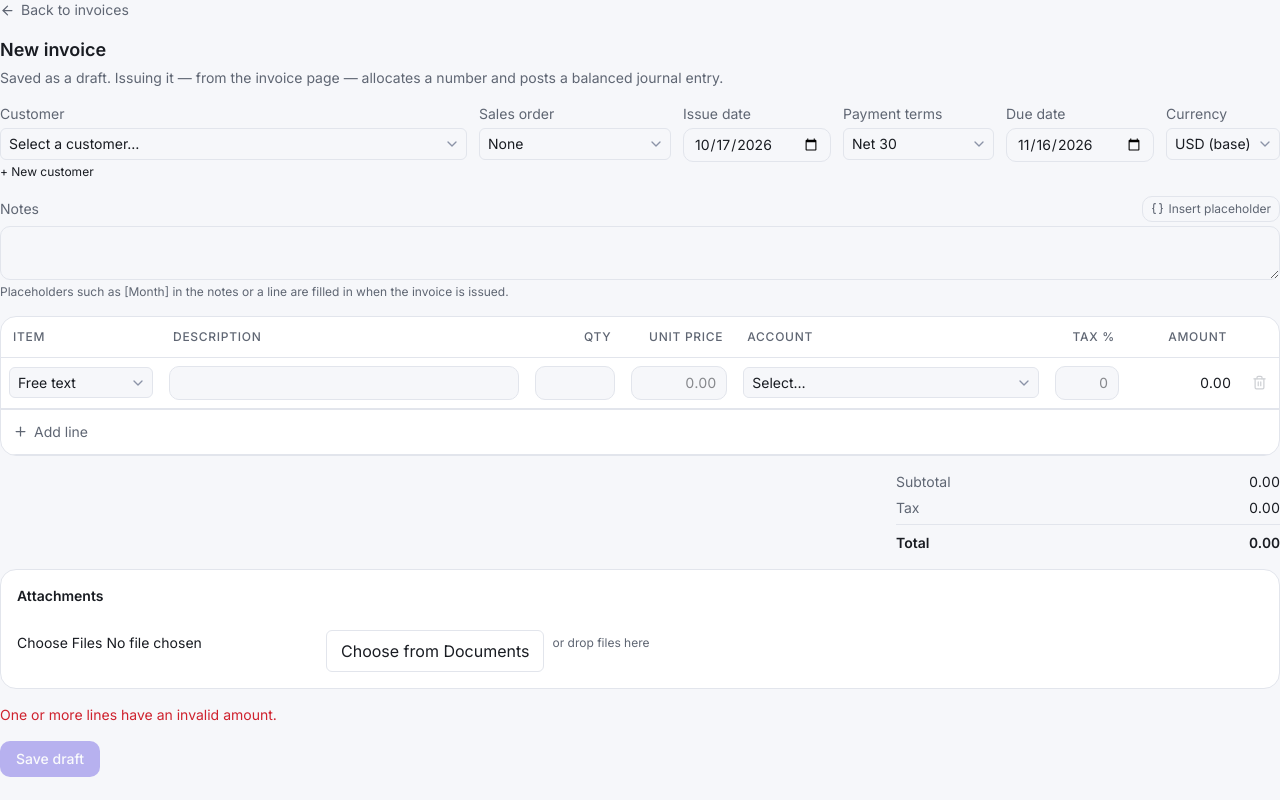
quick add from a document line › cancelling leaves the line exactly as it was
Type "Typed by hand" into the field named "Description for line 1" at (344,383), box [169, 366, 519, 400]
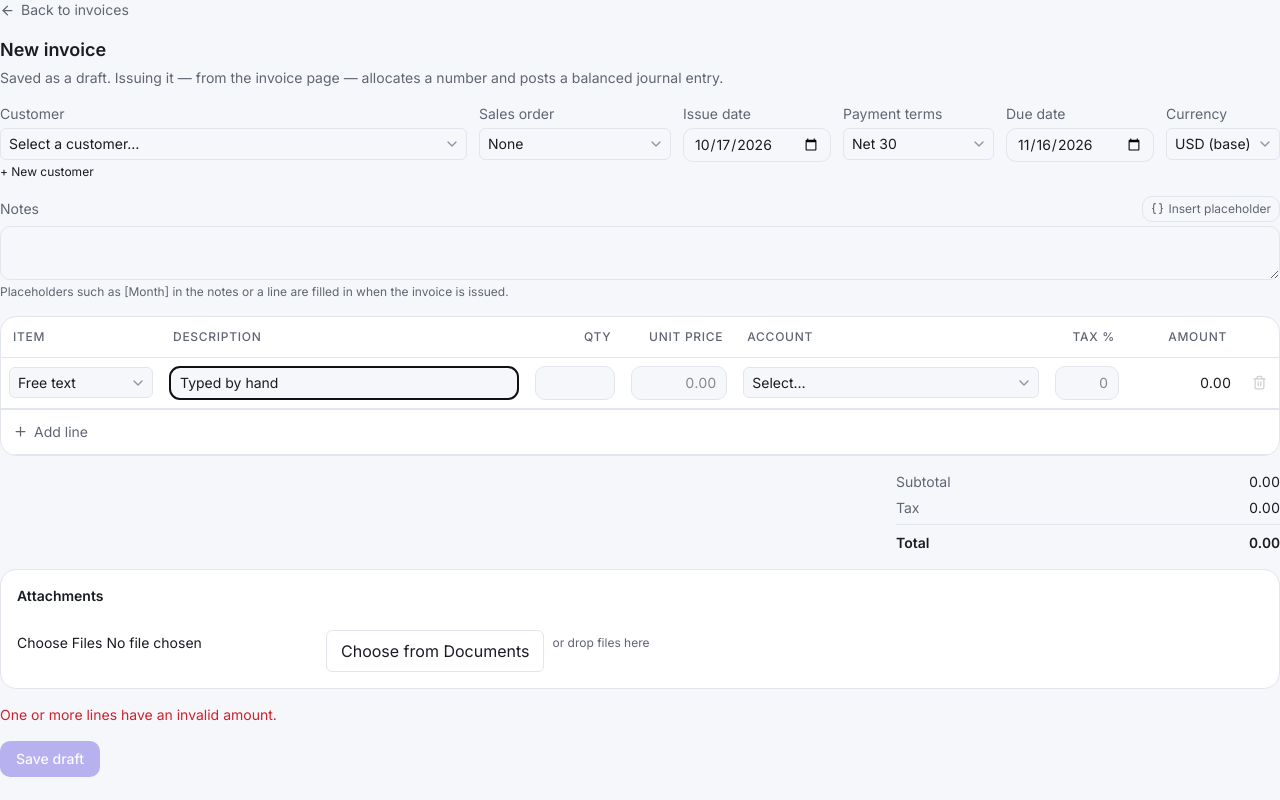
Select "＋ New product or service…" in the dropdown named "Item for line 1" at (81,383), box [9, 367, 153, 398]
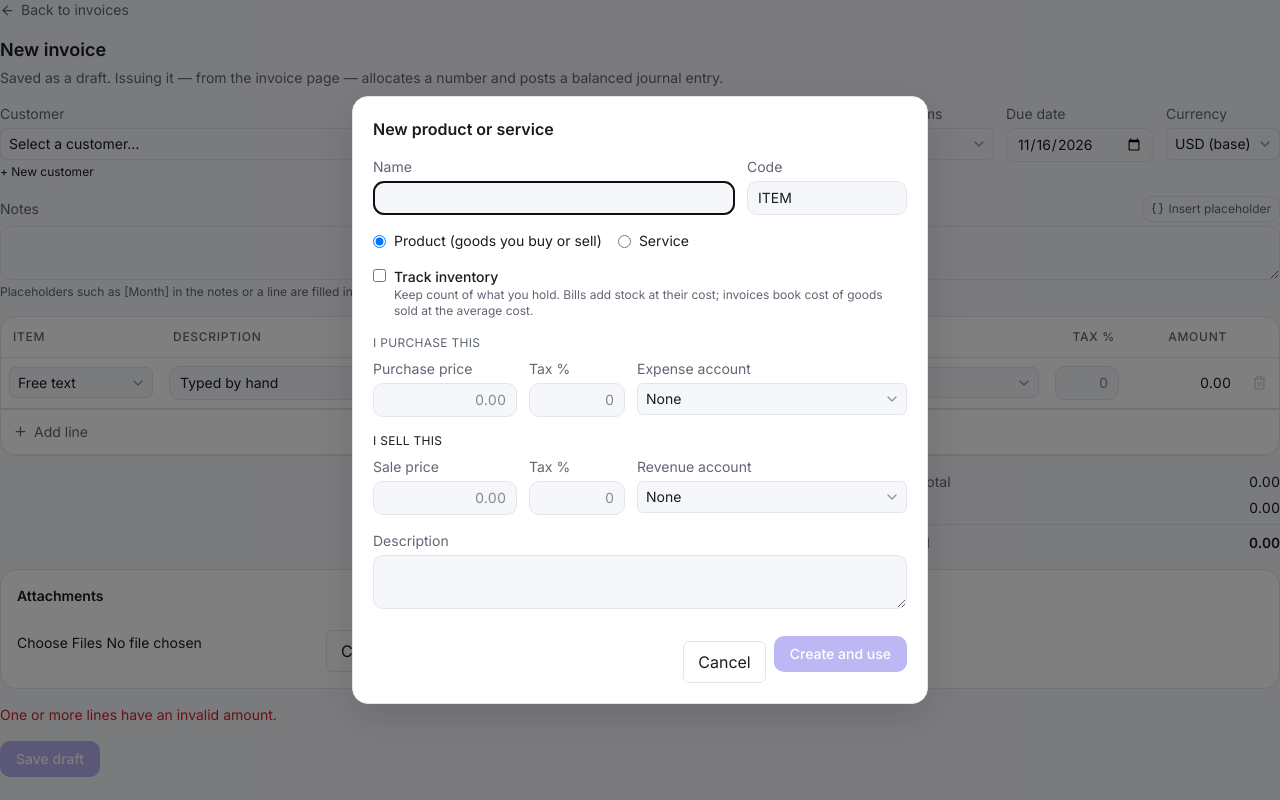
Check: the dialog is shown, box [352, 96, 928, 704]
Press Escape
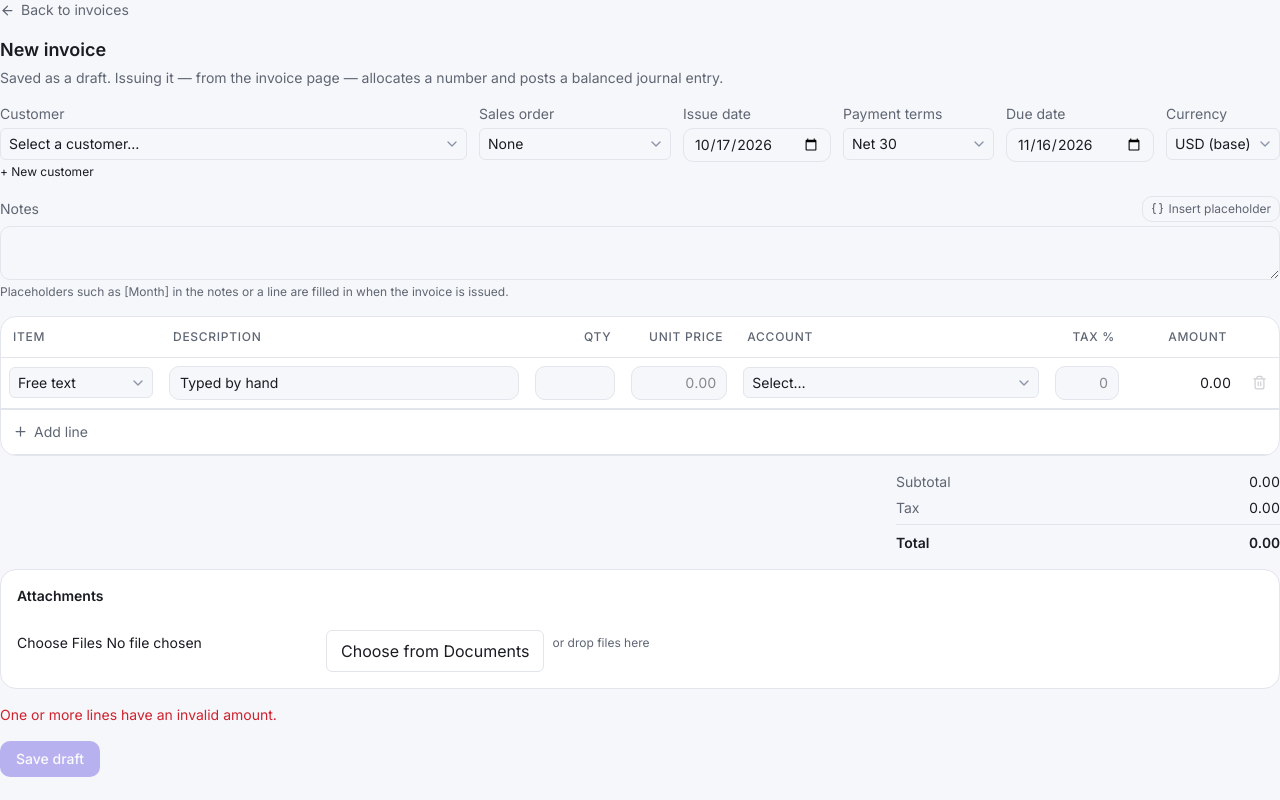
Check: the dialog is gone
